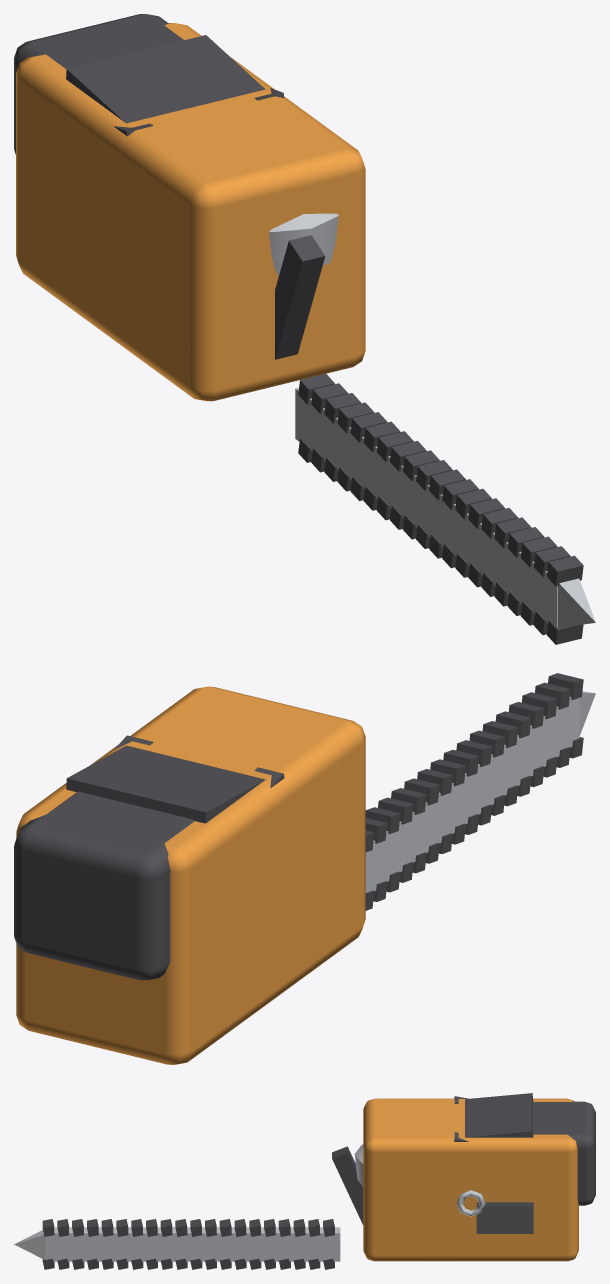
File: chainsaw.glb
3 renders of one model, top to bottom at view 1: azimuth 30°, elevation 25°; view 2: azimuth 150°, elevation 25°; view 3: azimuth 270°, elevation 25°, orthographic. The views are drawn at different scales.
Visible parts, largest first — view 1: chainsaw; view 2: chainsaw; view 3: chainsaw.
Boxes of the visible parts, left/top/right/bottom form: chainsaw: left=14, top=14, right=595, bottom=644; chainsaw: left=14, top=673, right=595, bottom=1064; chainsaw: left=14, top=1093, right=595, bottom=1269.
Bounding box in the file's own units: 0.246 × 0.2995 × 1.02.
